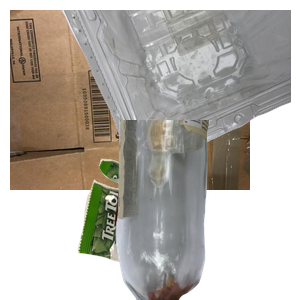cardboard: (10, 10, 250, 190)
glass: (113, 120, 300, 300)
plastic: (60, 10, 300, 162)
trash: (75, 156, 244, 300)
